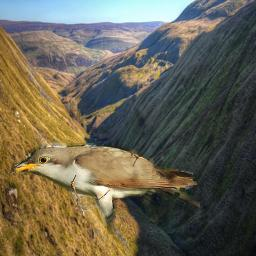Cuckoo: (10, 143, 200, 234)
